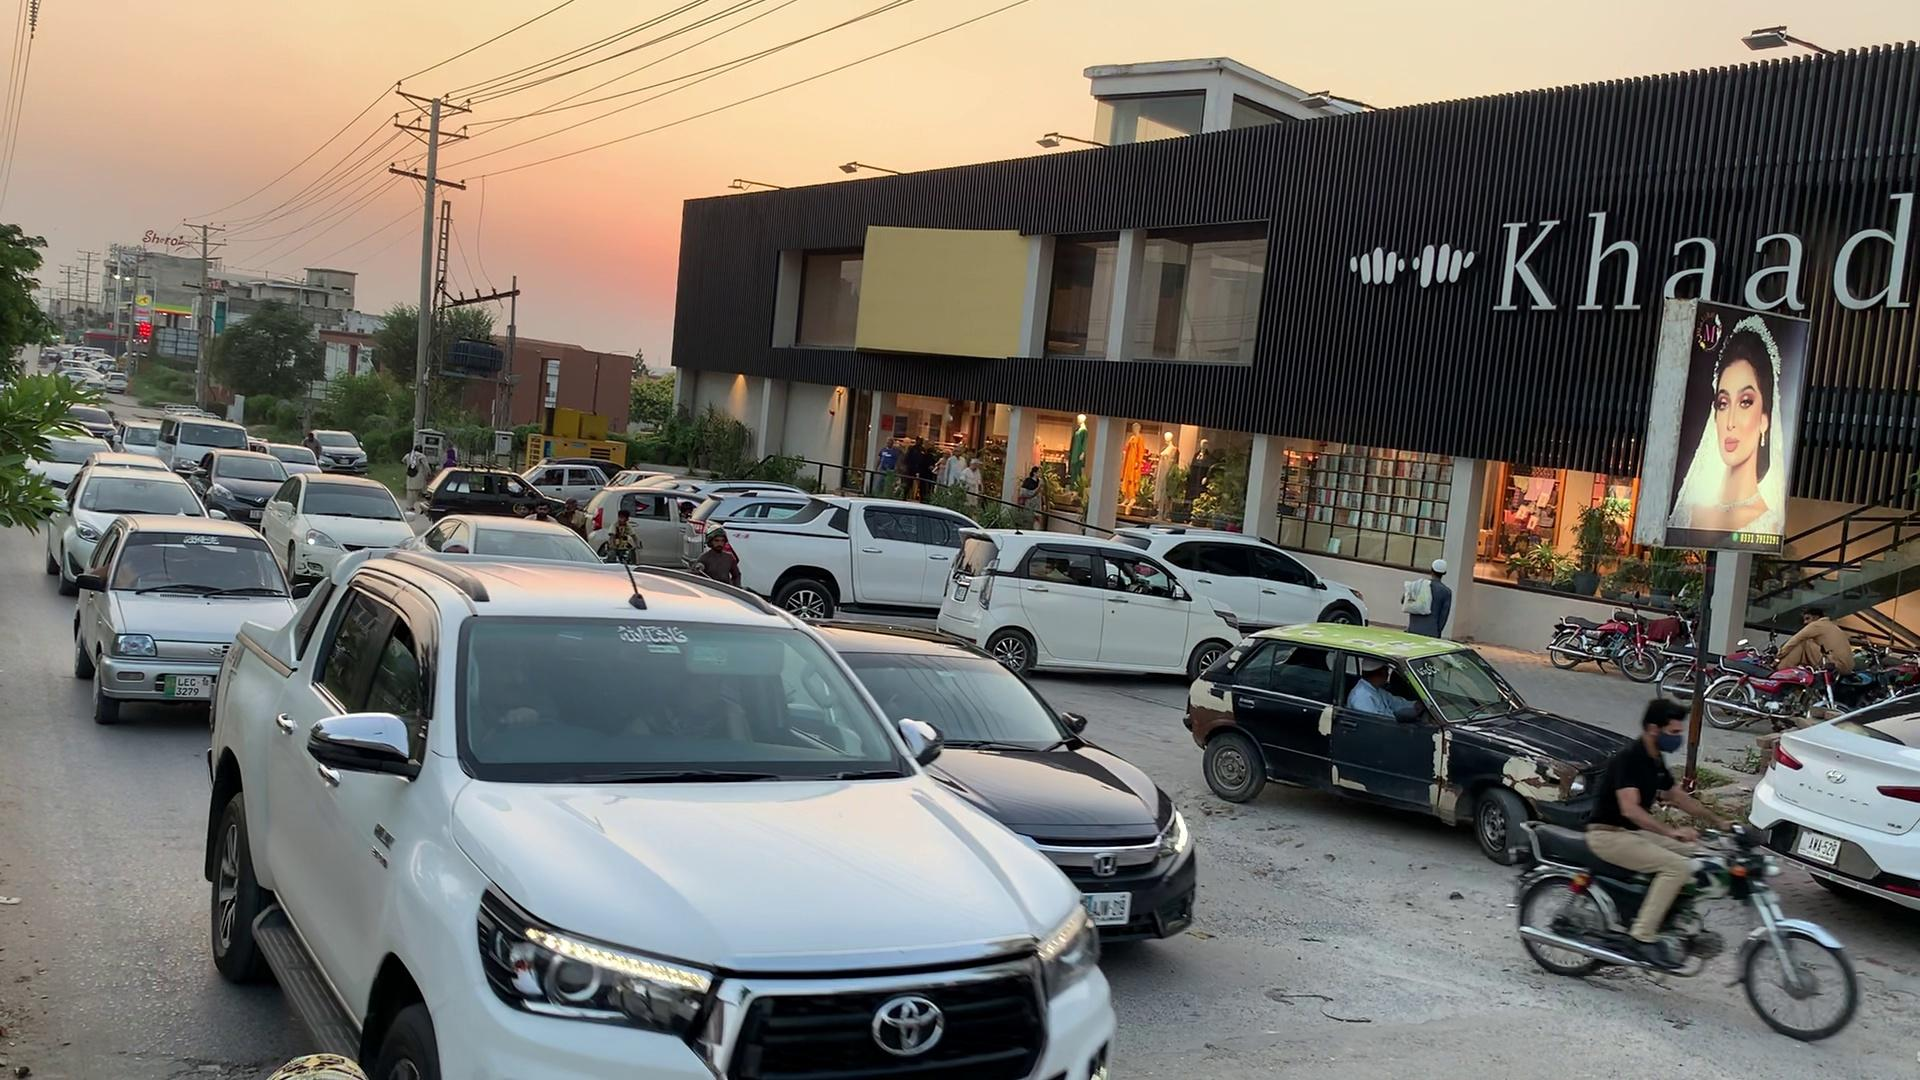windshield: (438, 600, 924, 790), (108, 520, 290, 608)
